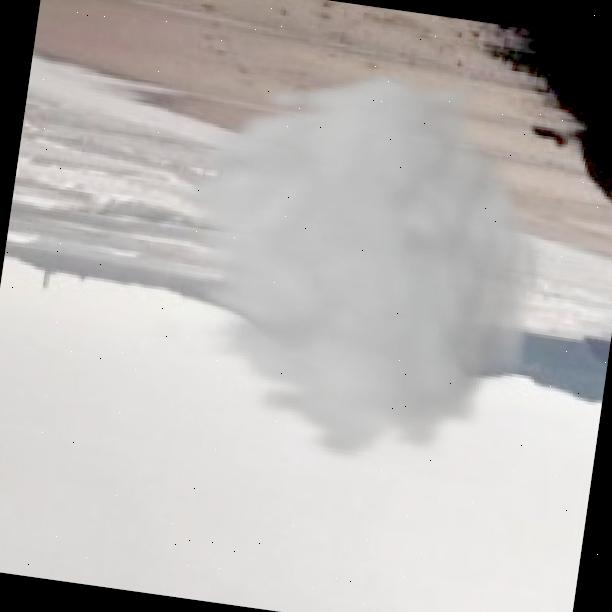smoke: (119, 37, 577, 490)
